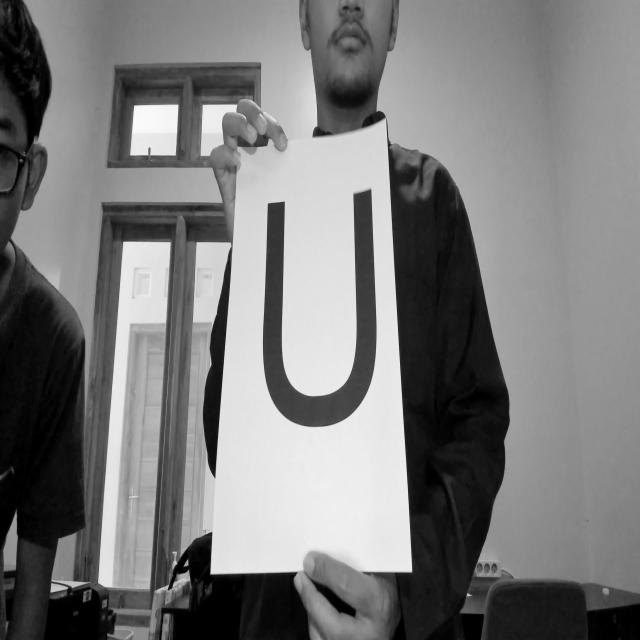u: (252, 179, 387, 430)
